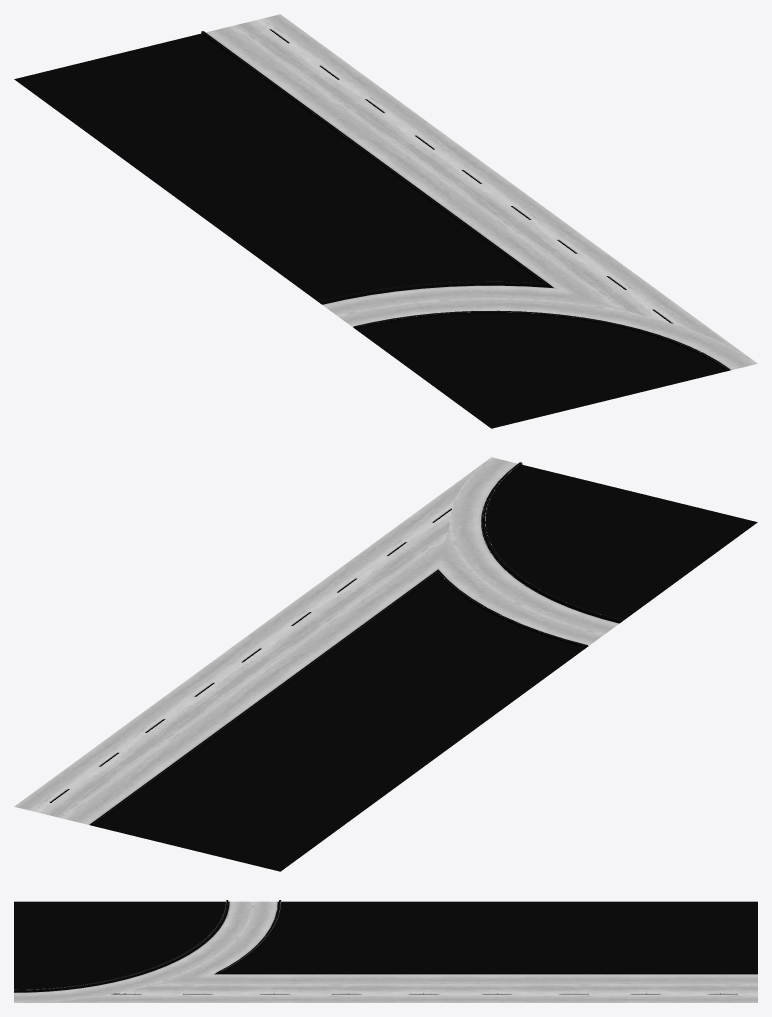
File: uturn-5L.fbx
The picture shows the model from 3 angles, top to bottom: view 1: azimuth 30°, elevation 25°; view 2: azimuth 150°, elevation 25°; view 3: azimuth 270°, elevation 25°; orthographic projection. The views are drawn at different scales.
Parts seen in each view (by area): view 1: 4R回转; view 2: 4R回转; view 3: 4R回转.
Part boxes in pixels (x1,y1,x2,y2): 4R回转: (14, 14, 757, 428); 4R回转: (14, 457, 757, 871); 4R回转: (14, 900, 757, 1002).
Size of the model in its own units: 2063 by 15 by 6400.
